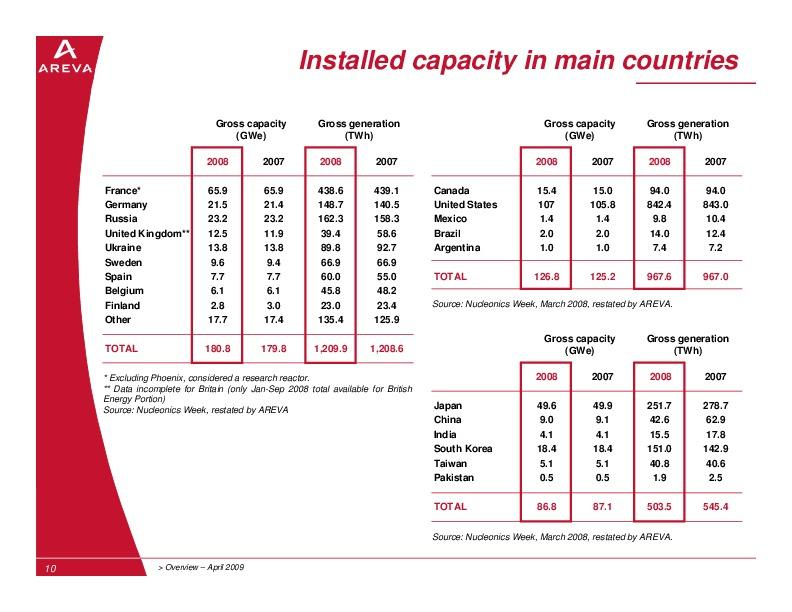paragraph: (84, 108, 774, 560)
title: (295, 38, 745, 96)
